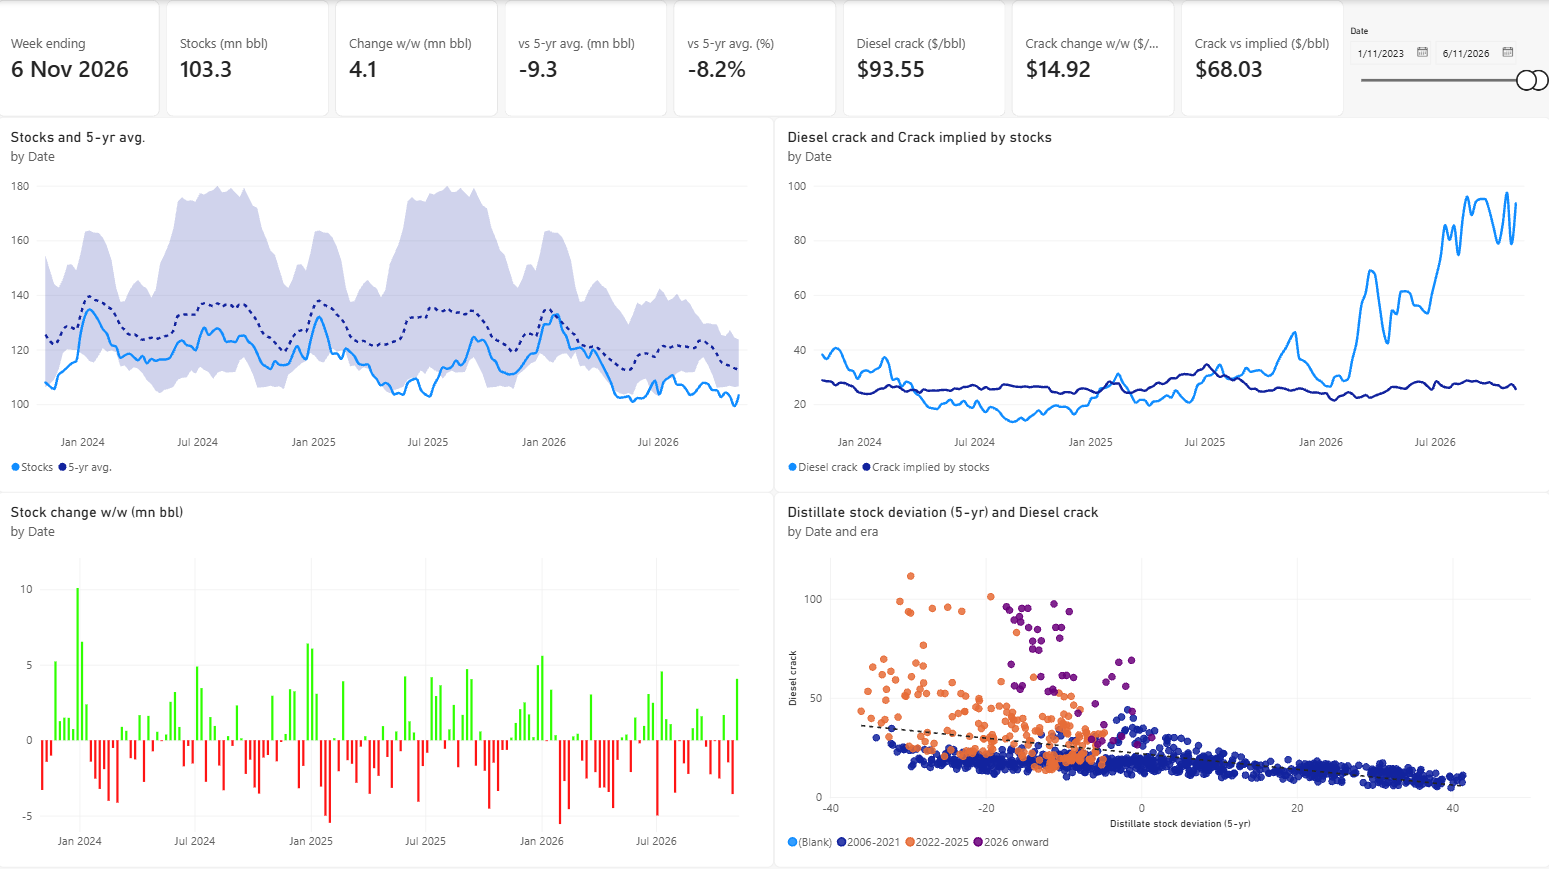

The dashboard page shown, as its layout file describes it:
{"tool":"powerbi","page":{"name":"Page 1","canvas":[1920,1080],"ordinal":0},"visuals":[{"type":"slicer","fields":{"Values":["eia.Date"]},"box":[1664,32,256,96],"z":0},{"type":"cardVisual","fields":{"Data":["eia.Latest week","eia.Latest stocks","eia.Latest stocks w/w","eia.Latest vs 5 yr","eia.Latest vs 5yr %","eia.Latest crack","eia.Latest crack w/w","eia.Latest crack vs implied"]},"box":[0,0,1664,144],"z":1000},{"type":"lineChart","fields":{"Category":["eia.Date"],"Y":["Sum(eia.stocks)","Sum(eia.avg5)"]},"box":[0,144,960,464],"z":2000},{"type":"clusteredColumnChart","fields":{"Category":["eia.Date"],"Y":["Sum(eia.wow)"]},"box":[0,608,960,464],"z":3000},{"type":"lineChart","fields":{"Category":["eia.Date"],"Y":["Sum(eia.crack)","Sum(eia.crack_fitted)"]},"box":[960,144,960,464],"z":4000},{"type":"scatterChart","fields":{"Category":["eia.Date"],"Series":["eia.era"],"X":["Sum(eia.dev5)"],"Y":["Sum(eia.crack)"]},"box":[960,608,960,464],"z":5000}]}

Visuals, with their boxes in screenshot pixels (x1, y1, x2, y2), scaled from the page's 1920x1080 canvas onto the 1549x869 screenshot:
slicer - eia.Date: bbox(1342, 26, 1548, 103)
cardVisual - eia.Latest week x eia.Latest stocks: bbox(0, 0, 1342, 116)
lineChart - eia.Date x Sum(eia.stocks): bbox(0, 116, 774, 489)
clusteredColumnChart - eia.Date x Sum(eia.wow): bbox(0, 489, 774, 863)
lineChart - eia.Date x Sum(eia.crack): bbox(774, 116, 1548, 489)
scatterChart - eia.Date x eia.era: bbox(774, 489, 1548, 863)
